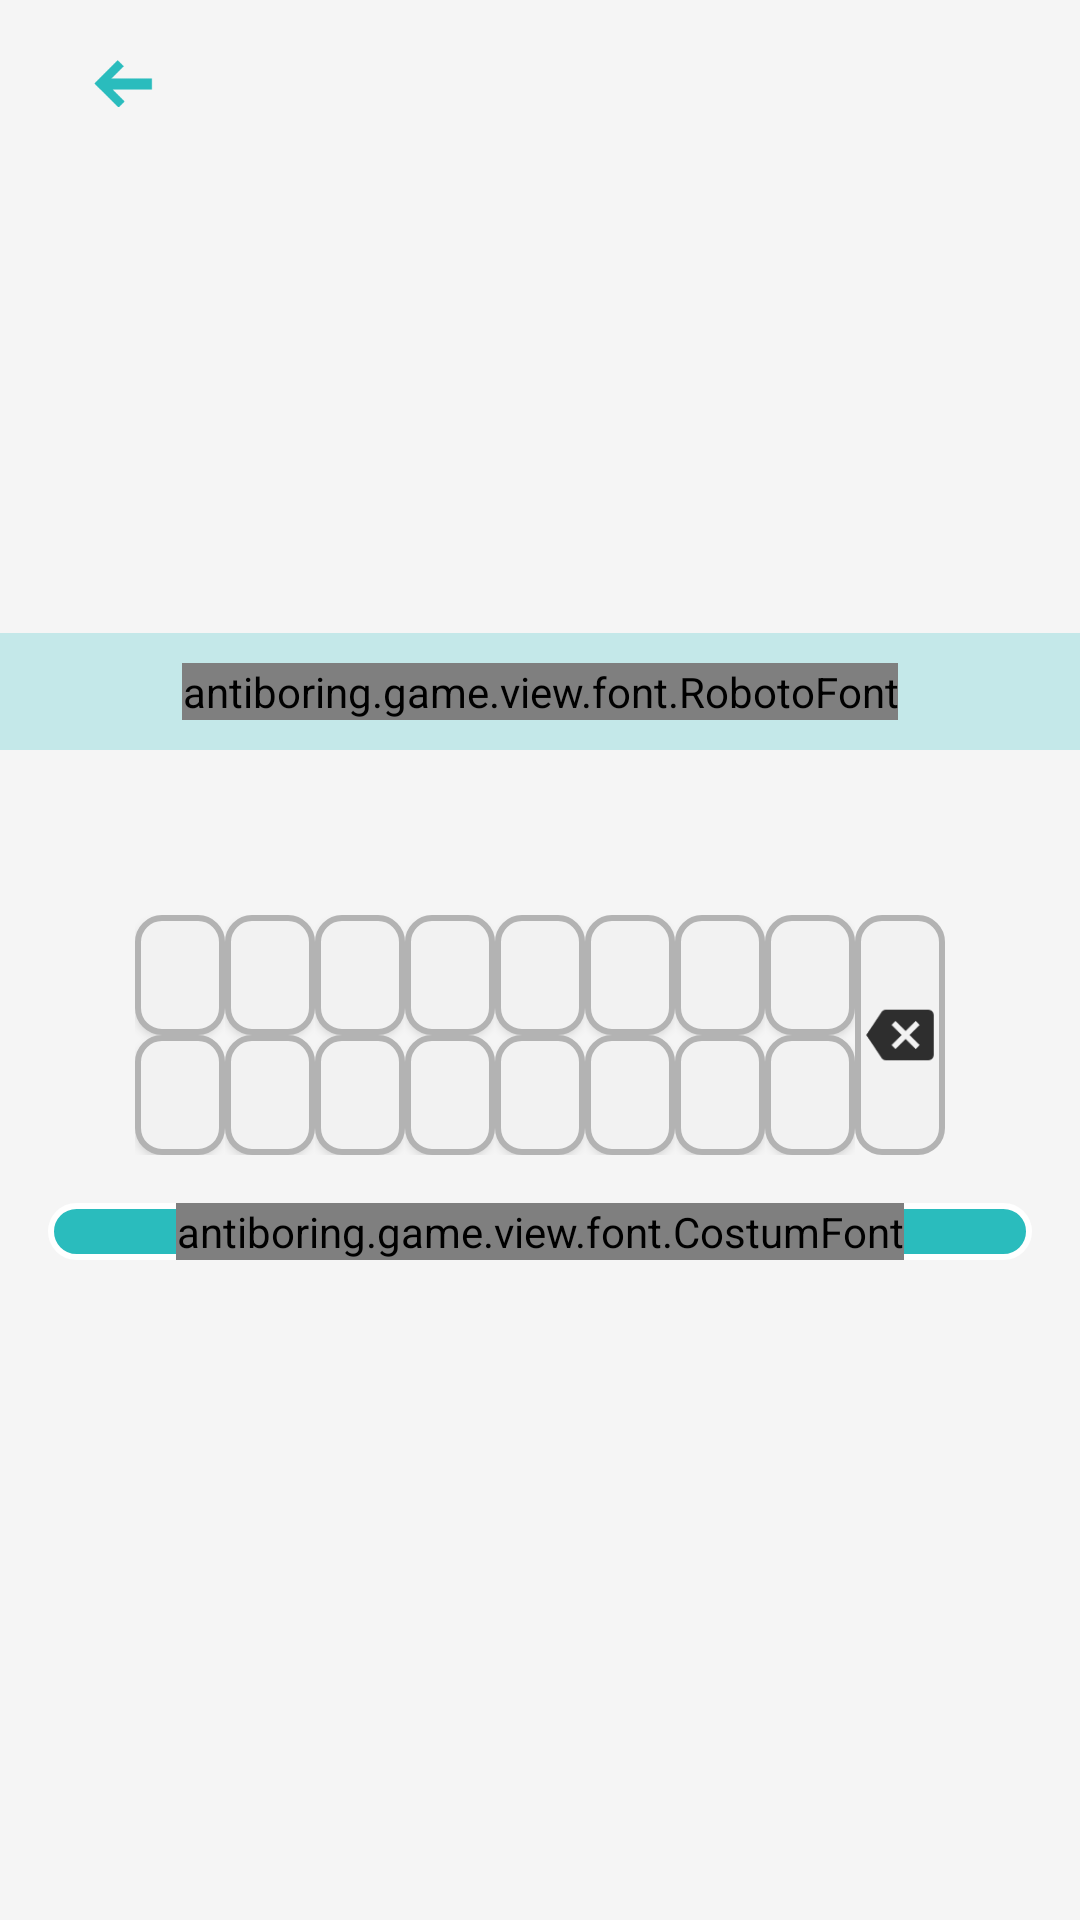

Named icons in this screenshot (1080px x 1920px) and their centers, point (x, y):
backspace: point (900, 1035)
panahback: point (123, 83)
